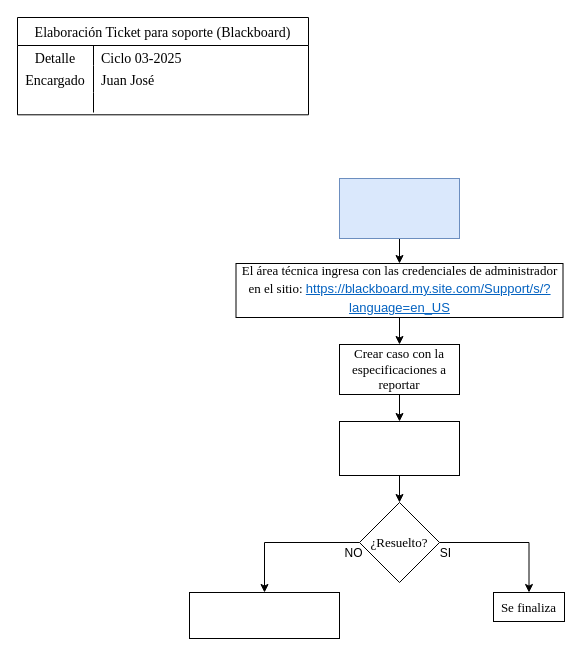
Image size: 582x656. Some labels were removed from this diagram. The shapes that lost their labels are listed below. From the top down, each one's centre as x and y in pixels, then its label:
At (x=399, y=208): "Elaboración de Ticket para soporte (Blackboard)".
At (x=399, y=448): "Esperar respuesta al caso reportado por parte de Anthology".
At (x=264, y=615): "Se reporta la situación a la Dirección de educación virtual".
